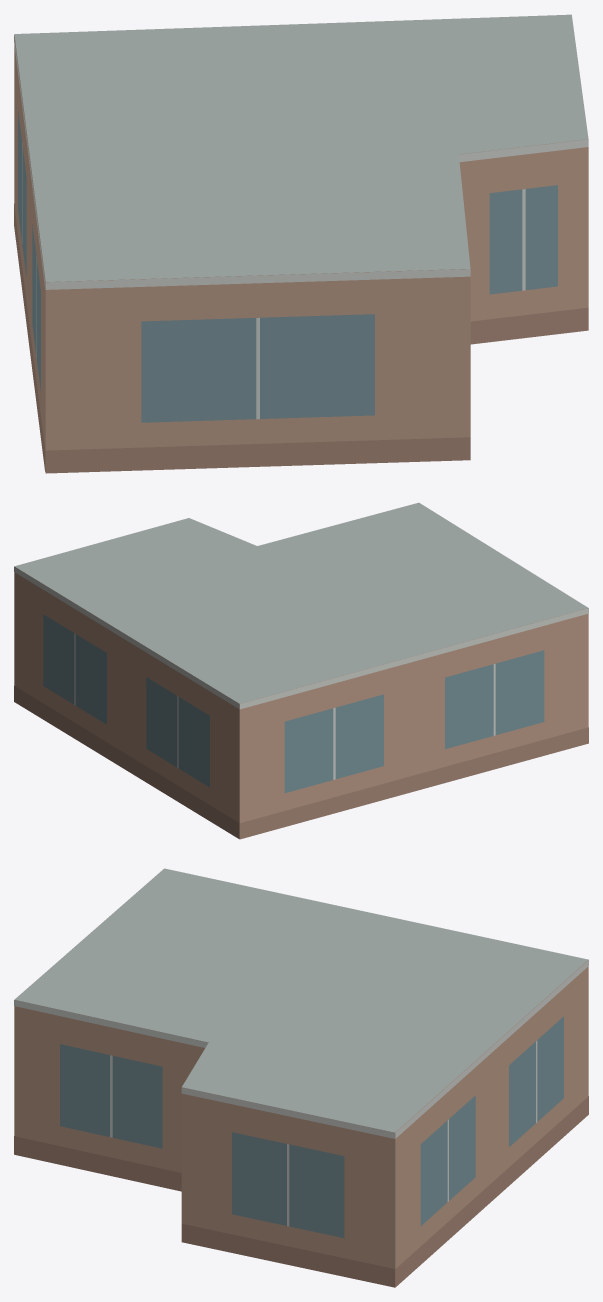
The model's file is survey-upis-32919674.glb.
3 renders of one model, top to bottom at view 1: azimuth 30°, elevation 25°; view 2: azimuth 150°, elevation 25°; view 3: azimuth 270°, elevation 25°, orthographic. The views are drawn at different scales.
Parts seen in each view (by area): view 1: survey-upis-32919674.tmp; view 2: survey-upis-32919674.tmp; view 3: survey-upis-32919674.tmp.
Part boxes in pixels (left/top/right/bottom): survey-upis-32919674.tmp: left=14, top=14, right=588, bottom=473; survey-upis-32919674.tmp: left=14, top=502, right=588, bottom=839; survey-upis-32919674.tmp: left=14, top=868, right=588, bottom=1287.
Bounding box in the file's own units: 11.17 × 3.05 × 10.26.
